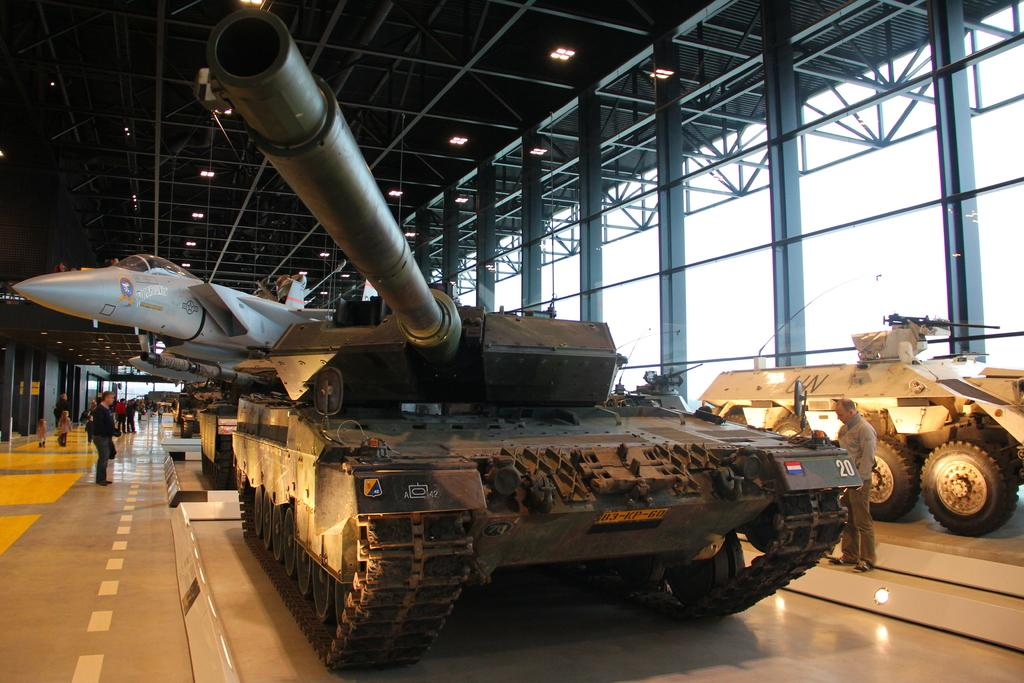Tank: (195, 10, 867, 676), (699, 313, 1023, 536), (606, 364, 701, 411)
